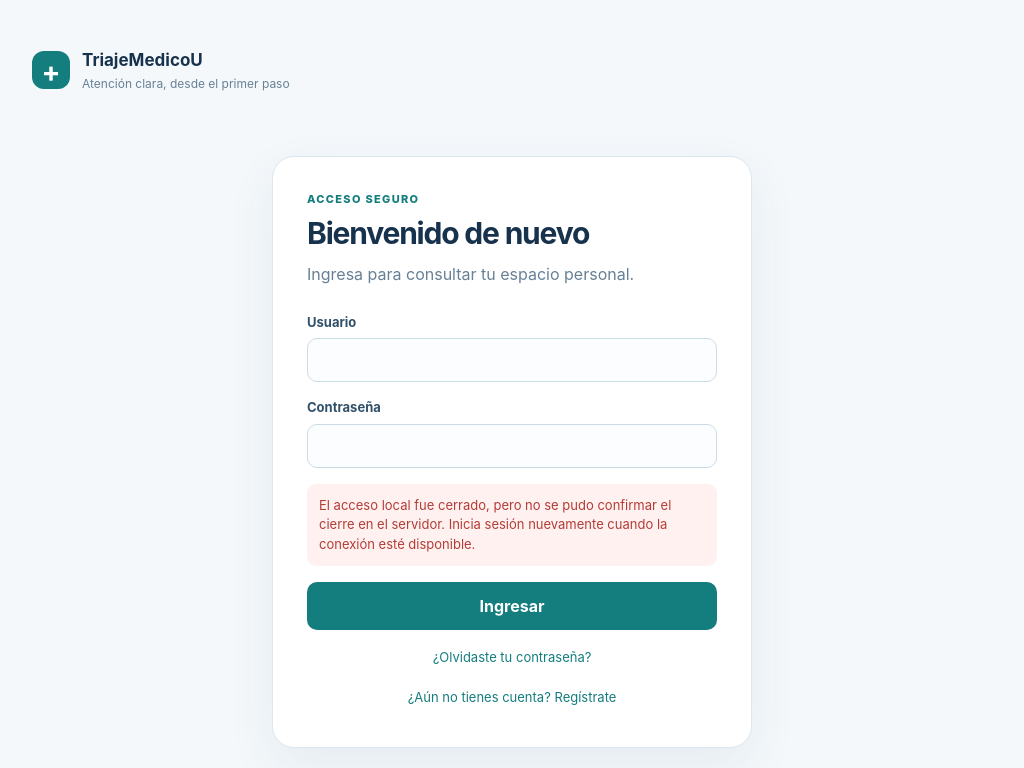
Test: authentication flow › clears a pending marker after explicit login succeeds
Expected: the heading "Bienvenido de nuevo" is shown, x1=307 y1=215 x2=589 y2=251
Type "ana" into the field labelled "Usuario" at (512, 360), box x1=307 y1=338 x2=717 y2=382
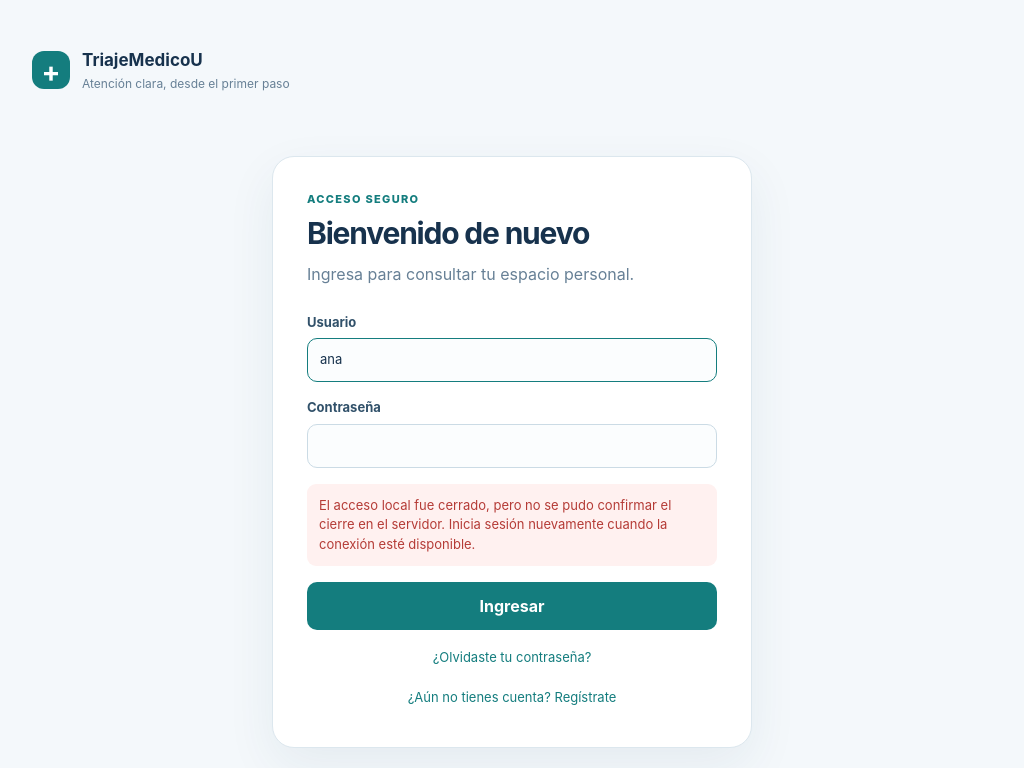
Type "Secret123" into the password field labelled "Contraseña" at (512, 446), box x1=307 y1=424 x2=717 y2=468
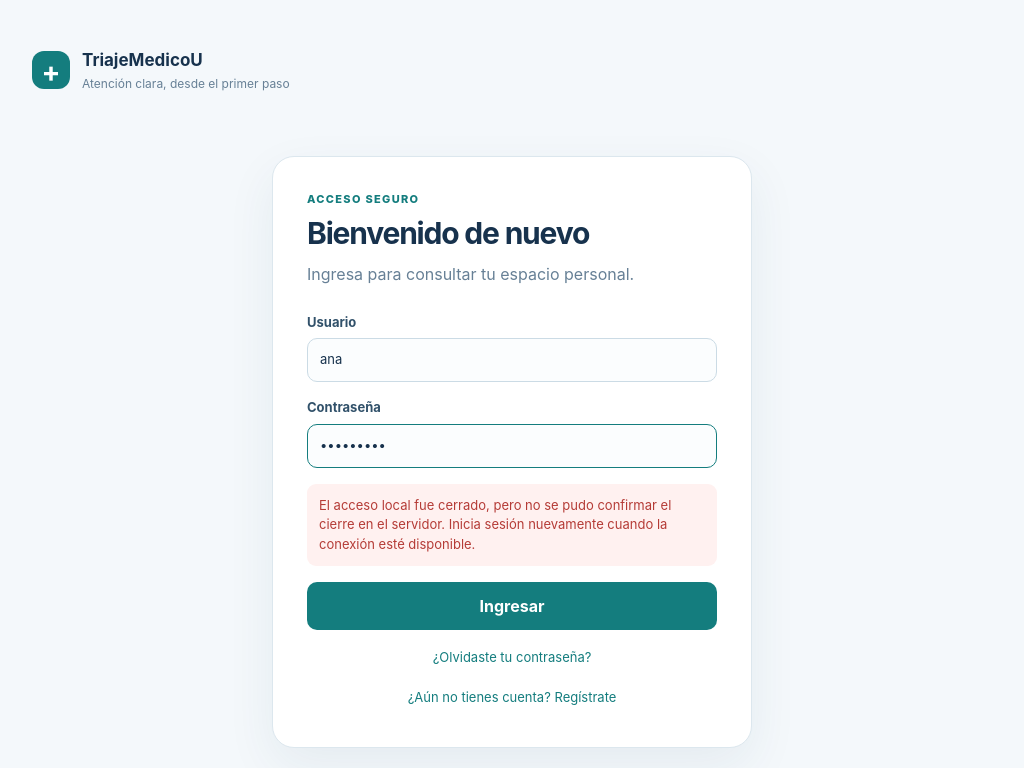
Click the button "Ingresar" at (512, 606), box x1=307 y1=582 x2=717 y2=630
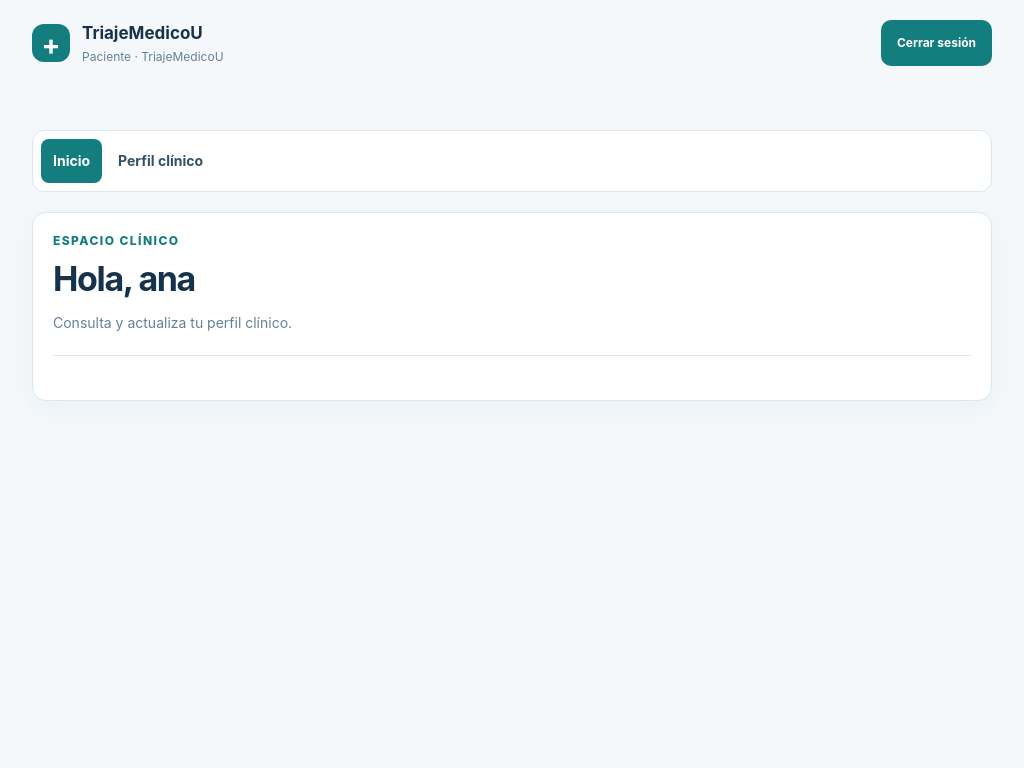
Now the heading "Hola, ana" is shown, box x1=53 y1=258 x2=195 y2=299
